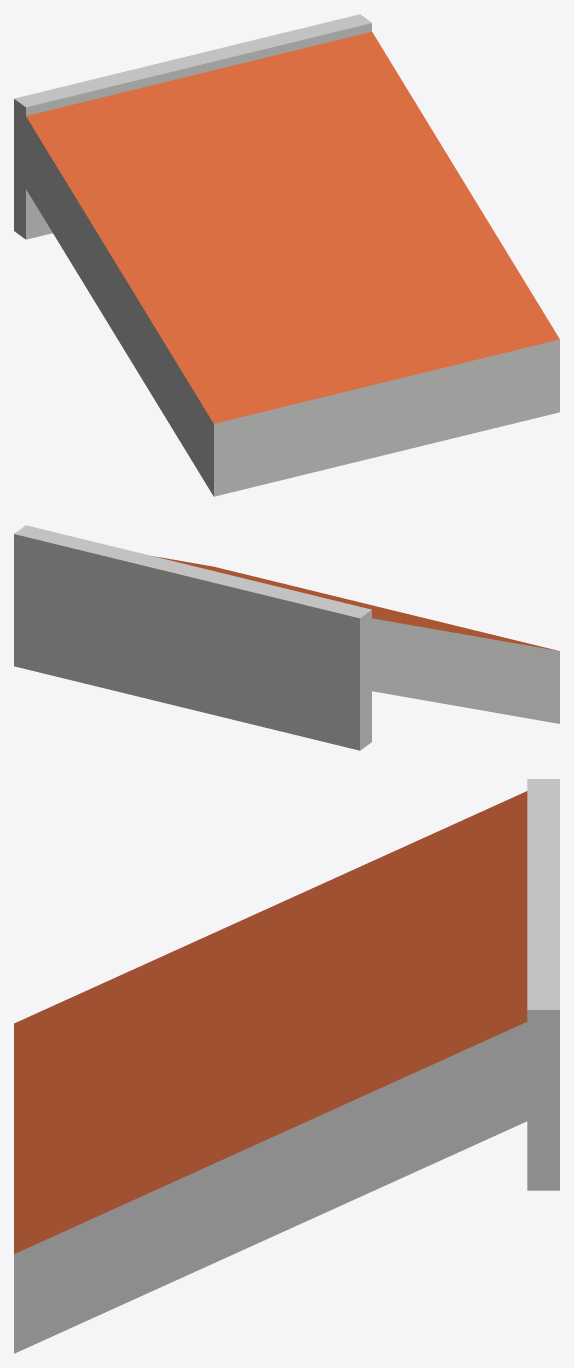
The model's file is telhado_beiral_alto_i50_0_5m.glb.
3 renders of one model, top to bottom at view 1: azimuth 30°, elevation 25°; view 2: azimuth 150°, elevation 25°; view 3: azimuth 270°, elevation 25°, orthographic. The views are drawn at different scales.
Parts seen in each view (by area): view 1: telhado_beiral_alto_i50_0_5m; view 2: telhado_beiral_alto_i50_0_5m; view 3: telhado_beiral_alto_i50_0_5m.
Part boxes in pixels (x1,y1,x2,y2): telhado_beiral_alto_i50_0_5m: (14, 14, 559, 496); telhado_beiral_alto_i50_0_5m: (14, 525, 559, 750); telhado_beiral_alto_i50_0_5m: (14, 779, 559, 1353).
Size of the model in its own units: 0.5 by 0.3476 by 0.5.
